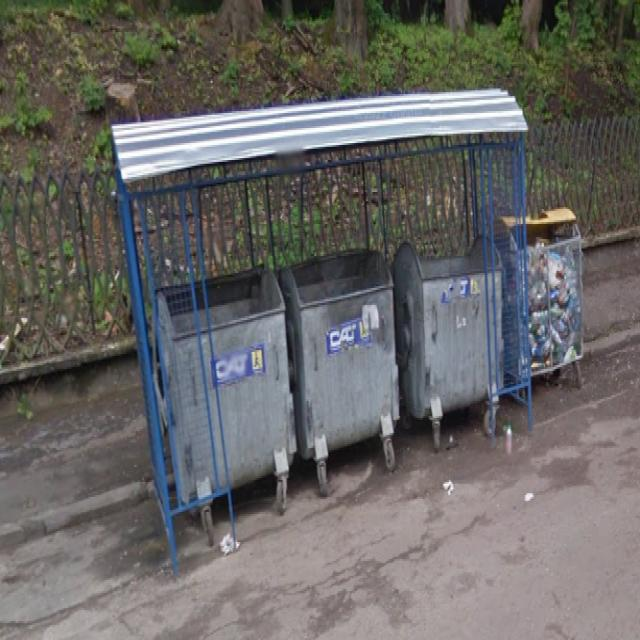general wastetrash bin: (139, 264, 298, 556), (286, 242, 406, 532), (395, 220, 505, 498)
plastic trash bin: (503, 199, 593, 401)
